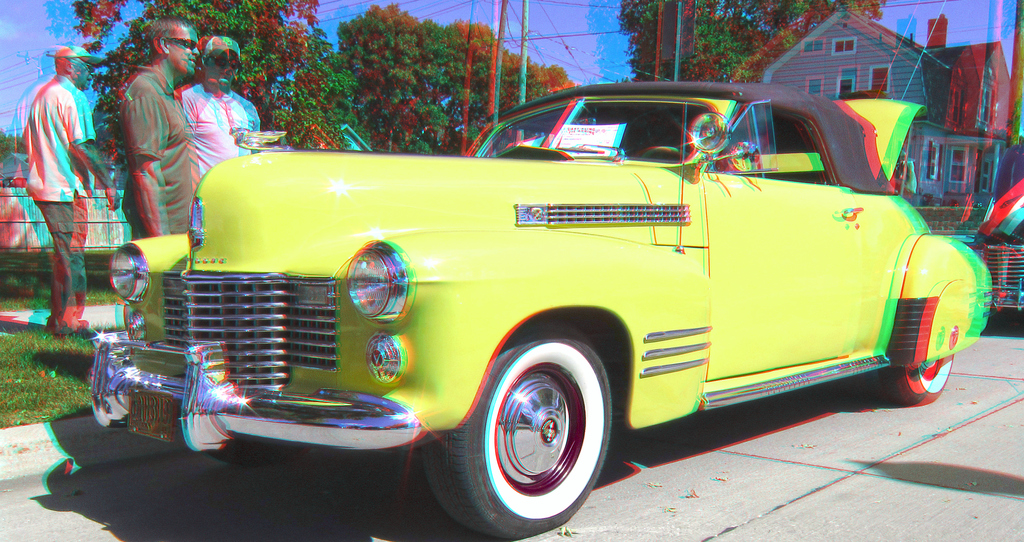Car: (85, 83, 979, 512), (972, 139, 1023, 313)
